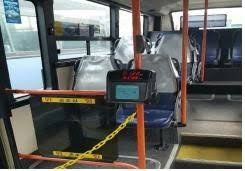terminal: (105, 68, 159, 106)
